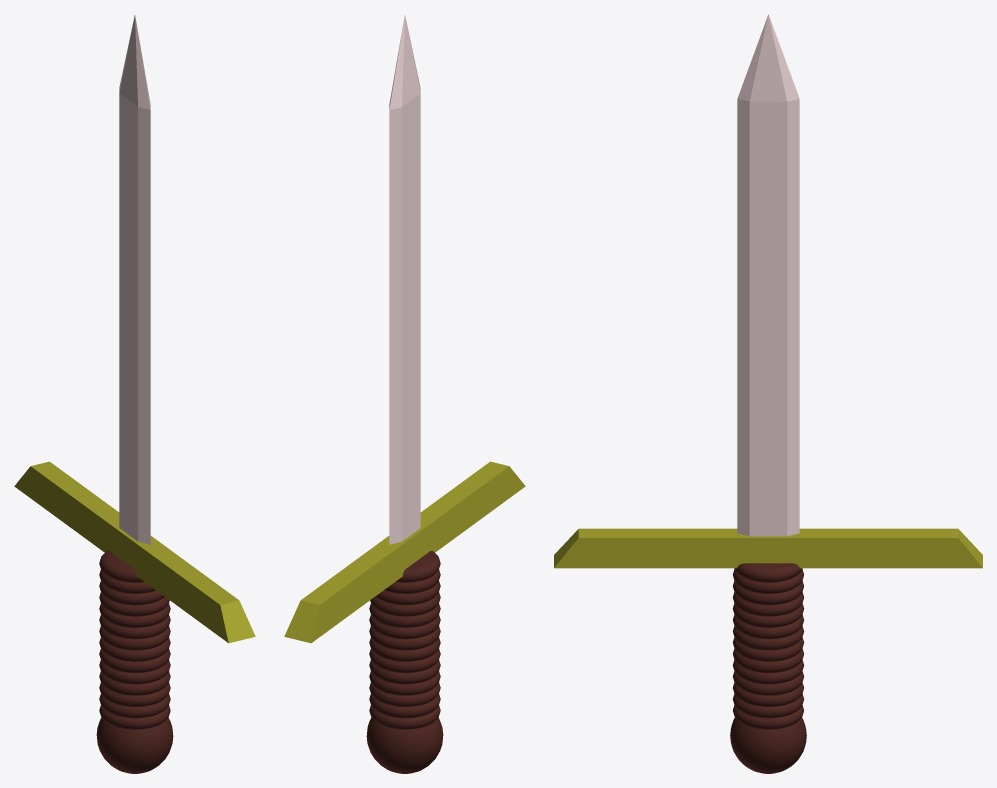
File: sword.obj
3 renders of one model, left to right at view 1: azimuth 30°, elevation 25°; view 2: azimuth 150°, elevation 25°; view 3: azimuth 270°, elevation 25°, orthographic.
Parts seen in each view (by area): view 1: Cube_Cube.001; view 2: Cube_Cube.001; view 3: Cube_Cube.001.
Part boxes in pixels (x1=…): Cube_Cube.001: x1=14, y1=15, x2=255, y2=773; Cube_Cube.001: x1=284, y1=15, x2=525, y2=773; Cube_Cube.001: x1=554, y1=14, x2=982, y2=773.
Bounding box in the file's own units: 0.2461 × 2.68 × 1.38.
1 material, 1 textured.
